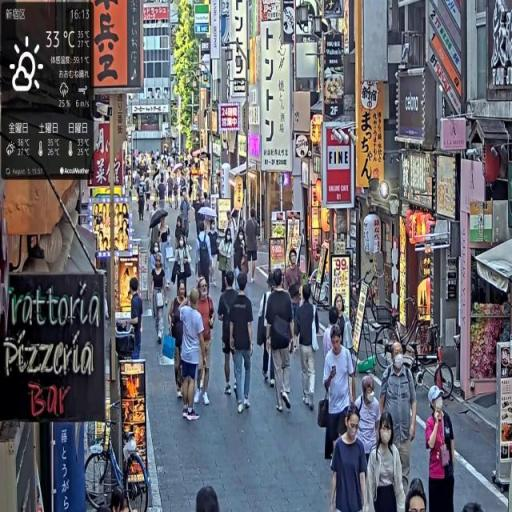person: (380, 345, 419, 493), (320, 325, 357, 466), (265, 274, 295, 416), (425, 384, 457, 512), (331, 408, 370, 512), (176, 292, 207, 422), (366, 410, 405, 512), (229, 272, 255, 418), (352, 374, 384, 474), (296, 284, 320, 411), (219, 272, 240, 400), (196, 276, 215, 404), (169, 279, 189, 397), (258, 272, 277, 387), (151, 255, 170, 347), (130, 279, 145, 359), (247, 209, 262, 288)
